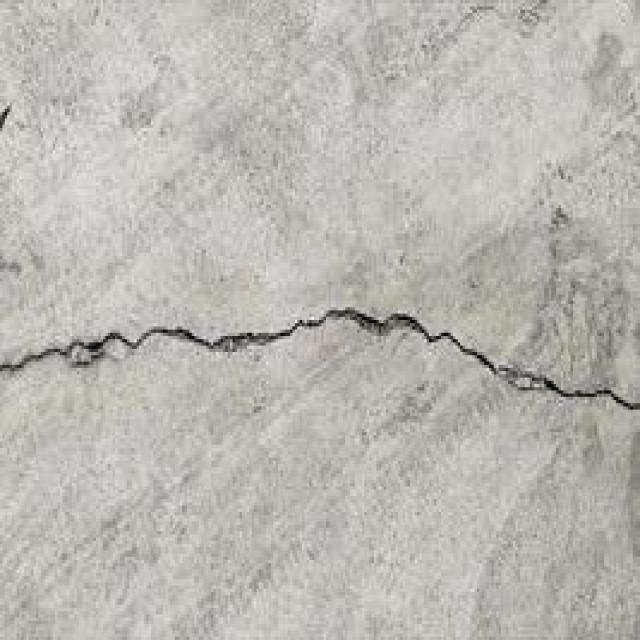road collapse: (0, 170, 640, 584)
